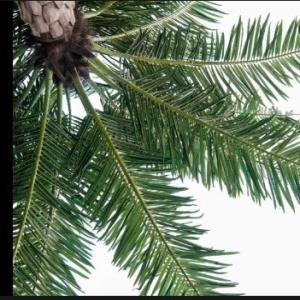palm tree: (10, 0, 299, 296)
